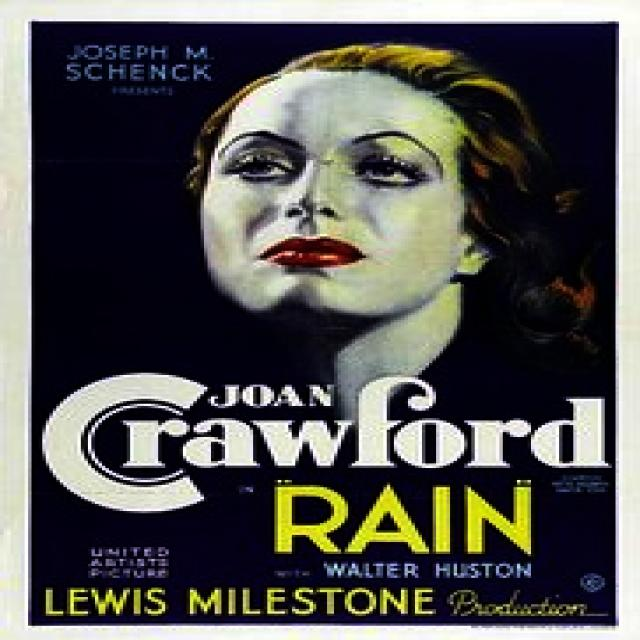movie-judul: (262, 475, 552, 563)
picture: (186, 40, 616, 373)
